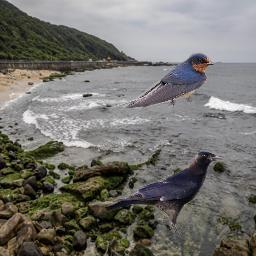Crow: (103, 150, 226, 238)
Swallow: (113, 52, 215, 110)
